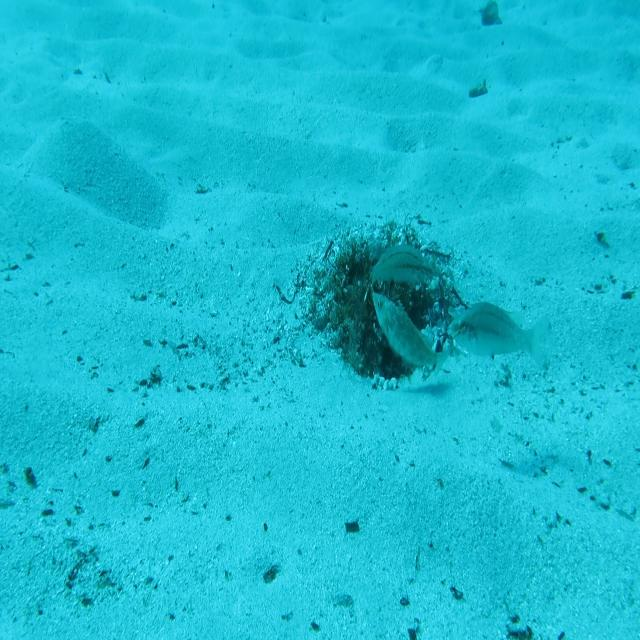BEND: (371, 290, 454, 379)
core_nest: (357, 253, 402, 293)
female: (446, 300, 554, 375), (368, 242, 436, 292)
nest: (300, 216, 472, 394)
vegetation: (478, 1, 502, 28), (468, 81, 488, 101), (343, 517, 361, 537)
